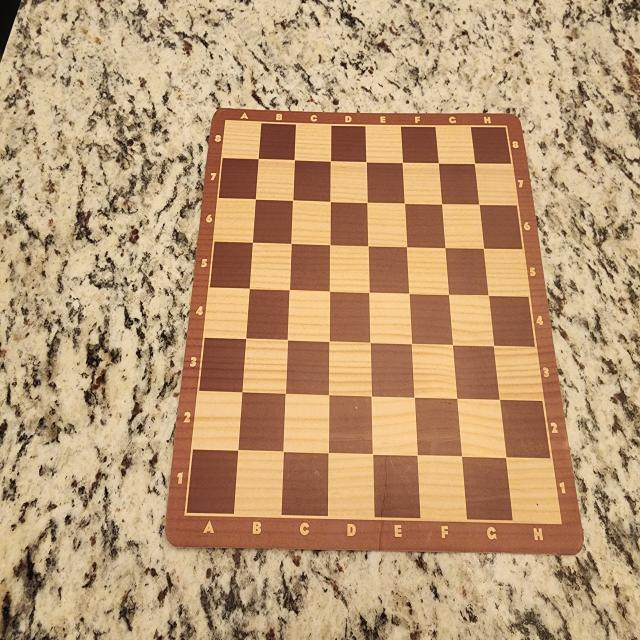Bottom-Left: (184, 451, 238, 516)
Bottom-Right: (506, 457, 563, 525)
Top-Left: (225, 120, 260, 160)
Top-Right: (475, 125, 507, 163)
